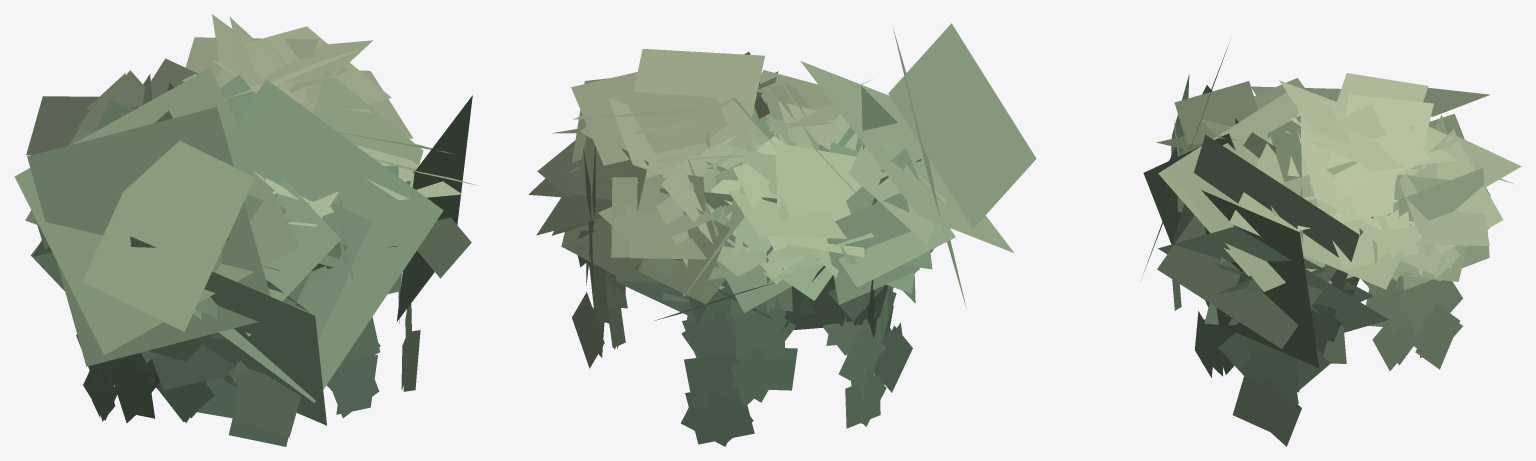
Rendered from willow_v0.glb.
3 views of the same model, side by side, from view 1: azimuth 30°, elevation 25°; view 2: azimuth 150°, elevation 25°; view 3: azimuth 270°, elevation 25° (orthographic). The views are drawn at different scales.
Parts seen in each view (by area): view 1: far, near; view 2: near, far; view 3: near, far.
Boxes of the visible parts, x1,y1,x2,y2 form: far: [14, 68, 478, 425]; near: [25, 14, 420, 446]; near: [536, 49, 955, 446]; far: [528, 23, 1036, 343]; near: [1143, 73, 1521, 446]; far: [1142, 44, 1404, 389].
Size of the model in its own units: 13.87 by 11.78 by 14.59.
